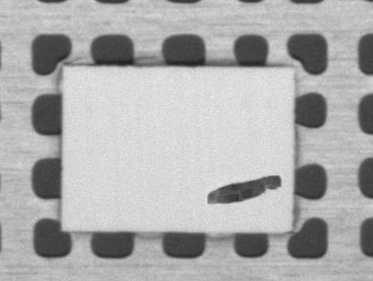DIE_INK: (206, 173, 282, 206)
